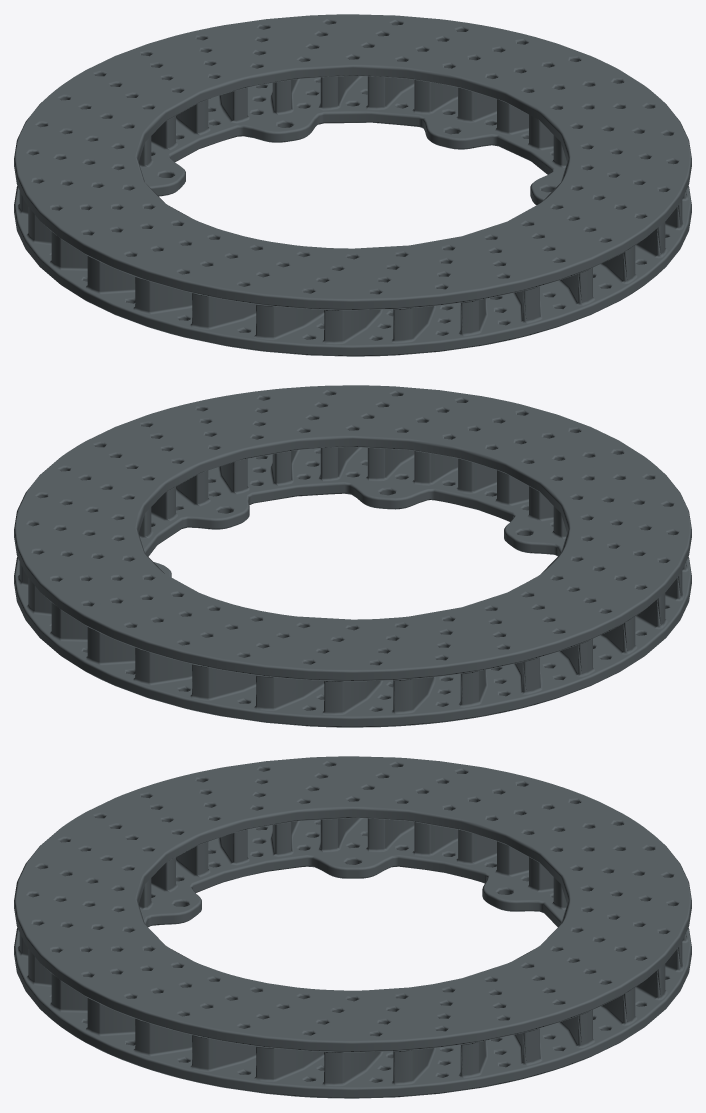
File: Disc.glb
3 views of the same model, one above another, from view 1: azimuth 30°, elevation 25°; view 2: azimuth 150°, elevation 25°; view 3: azimuth 270°, elevation 25° (orthographic).
Visible parts, largest first — view 1: node-1; view 2: node-1; view 3: node-1.
Part boxes in pixels (bbox=[...]): node-1: bbox=[14, 14, 691, 356]; node-1: bbox=[14, 385, 691, 727]; node-1: bbox=[14, 756, 691, 1098].
Bounding box in the file's own units: 0.318 × 0.03 × 0.318.
1 material, 1 textured.
